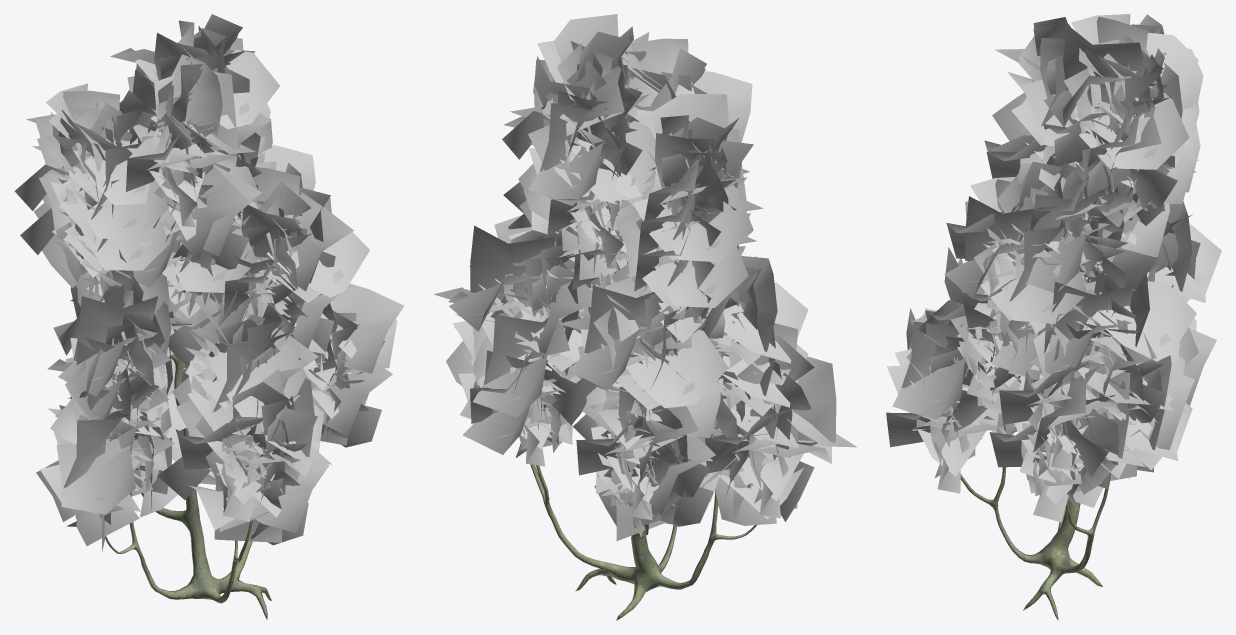
The model's file is Tree4.fbx.
3 views of the same model, side by side, from view 1: azimuth 30°, elevation 25°; view 2: azimuth 150°, elevation 25°; view 3: azimuth 270°, elevation 25° (orthographic). The views are drawn at different scales.
Parts seen in each view (by area): view 1: tree4|branch4-3|Dupli|30, tree4|branch4-3|Dupli|78, tree4|branch4-3|Dupli|138, tree4|branch4-3|Dupli|99, tree4, tree4|branch4-3|Dupli|42, tree4|branch4-3|Dupli|147, tree4|branch4-3|Dupli|57, tree4|branch4-3|Dupli|66, tree4|branch4-3|Dupli|63, tree4|branch4-3|Dupli|87, tree4|branch4-3|Dupli|15 (+53 smaller); view 2: tree4|branch4-3|Dupli|30, tree4|branch4-3|Dupli|21, tree4|branch4-3|Dupli|36, tree4|branch4-3|Dupli|42, tree4|branch4-3|Dupli|51, tree4|branch4-3|Dupli|39, tree4, tree4|branch4-3|Dupli|90, tree4|branch4-3|Dupli|33, tree4|branch4-3|Dupli|111, tree4|branch4-3|Dupli|15, tree4|branch4-3|Dupli|93 (+44 smaller); view 3: tree4|branch4-3|Dupli|36, tree4|branch4-3|Dupli|15, tree4|branch4-3|Dupli|63, tree4|branch4-3|Dupli|138, tree4|branch4-3|Dupli|102, tree4|branch4-3|Dupli|117, tree4|branch4-3|Dupli|78, tree4|branch4-1|Dupli|50, tree4, tree4|branch4-3|Dupli|120, tree4|branch4-3|Dupli|60, tree4|branch4-3|Dupli|99 (+48 smaller).
Part boxes in pixels (x1=…): tree4|branch4-3|Dupli|30: x1=36, y1=408, x2=141, y2=524; tree4|branch4-3|Dupli|78: x1=157, y1=416, x2=329, y2=545; tree4|branch4-3|Dupli|138: x1=177, y1=378, x2=331, y2=521; tree4|branch4-3|Dupli|99: x1=126, y1=71, x2=255, y2=227; tree4: x1=105, y1=242, x2=271, y2=619; tree4|branch4-3|Dupli|42: x1=58, y1=296, x2=175, y2=396; tree4|branch4-3|Dupli|147: x1=171, y1=304, x2=308, y2=416; tree4|branch4-3|Dupli|57: x1=32, y1=126, x2=168, y2=251; tree4|branch4-3|Dupli|66: x1=163, y1=165, x2=250, y2=269; tree4|branch4-3|Dupli|63: x1=316, y1=283, x2=404, y2=373; tree4|branch4-3|Dupli|87: x1=42, y1=180, x2=172, y2=287; tree4|branch4-3|Dupli|15: x1=110, y1=14, x2=279, y2=129; tree4|branch4-3|Dupli|30: x1=705, y1=356, x2=856, y2=518; tree4|branch4-3|Dupli|21: x1=559, y1=306, x2=728, y2=431; tree4|branch4-3|Dupli|36: x1=449, y1=225, x2=557, y2=332; tree4|branch4-3|Dupli|42: x1=709, y1=256, x2=808, y2=372; tree4|branch4-3|Dupli|51: x1=471, y1=315, x2=576, y2=429; tree4|branch4-3|Dupli|39: x1=568, y1=285, x2=681, y2=405; tree4: x1=530, y1=455, x2=775, y2=620; tree4|branch4-3|Dupli|90: x1=618, y1=146, x2=753, y2=262; tree4|branch4-3|Dupli|33: x1=611, y1=207, x2=748, y2=318; tree4|branch4-3|Dupli|111: x1=528, y1=103, x2=627, y2=213; tree4|branch4-3|Dupli|15: x1=540, y1=14, x2=649, y2=175; tree4|branch4-3|Dupli|93: x1=642, y1=94, x2=749, y2=246; tree4|branch4-3|Dupli|36: x1=1047, y1=247, x2=1196, y2=364; tree4|branch4-3|Dupli|15: x1=1043, y1=24, x2=1198, y2=135; tree4|branch4-3|Dupli|63: x1=999, y1=319, x2=1150, y2=470; tree4|branch4-3|Dupli|138: x1=887, y1=308, x2=969, y2=432; tree4|branch4-3|Dupli|102: x1=1079, y1=54, x2=1189, y2=169; tree4|branch4-3|Dupli|117: x1=961, y1=219, x2=1087, y2=336; tree4|branch4-3|Dupli|78: x1=886, y1=409, x2=1015, y2=493; tree4|branch4-1|Dupli|50: x1=1038, y1=128, x2=1137, y2=244; tree4: x1=948, y1=422, x2=1111, y2=620; tree4|branch4-3|Dupli|120: x1=944, y1=196, x2=1046, y2=298; tree4|branch4-3|Dupli|60: x1=1013, y1=187, x2=1118, y2=292; tree4|branch4-3|Dupli|99: x1=992, y1=49, x2=1076, y2=146.
Bounding box in the file's own units: 3337 × 5017 × 2643.
